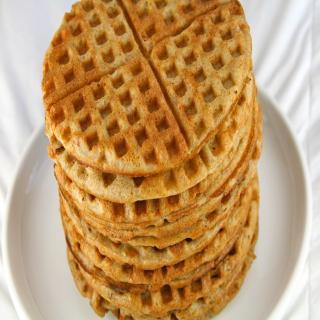Cookie: (40, 0, 264, 320)
Waffle: (39, 0, 259, 320)
